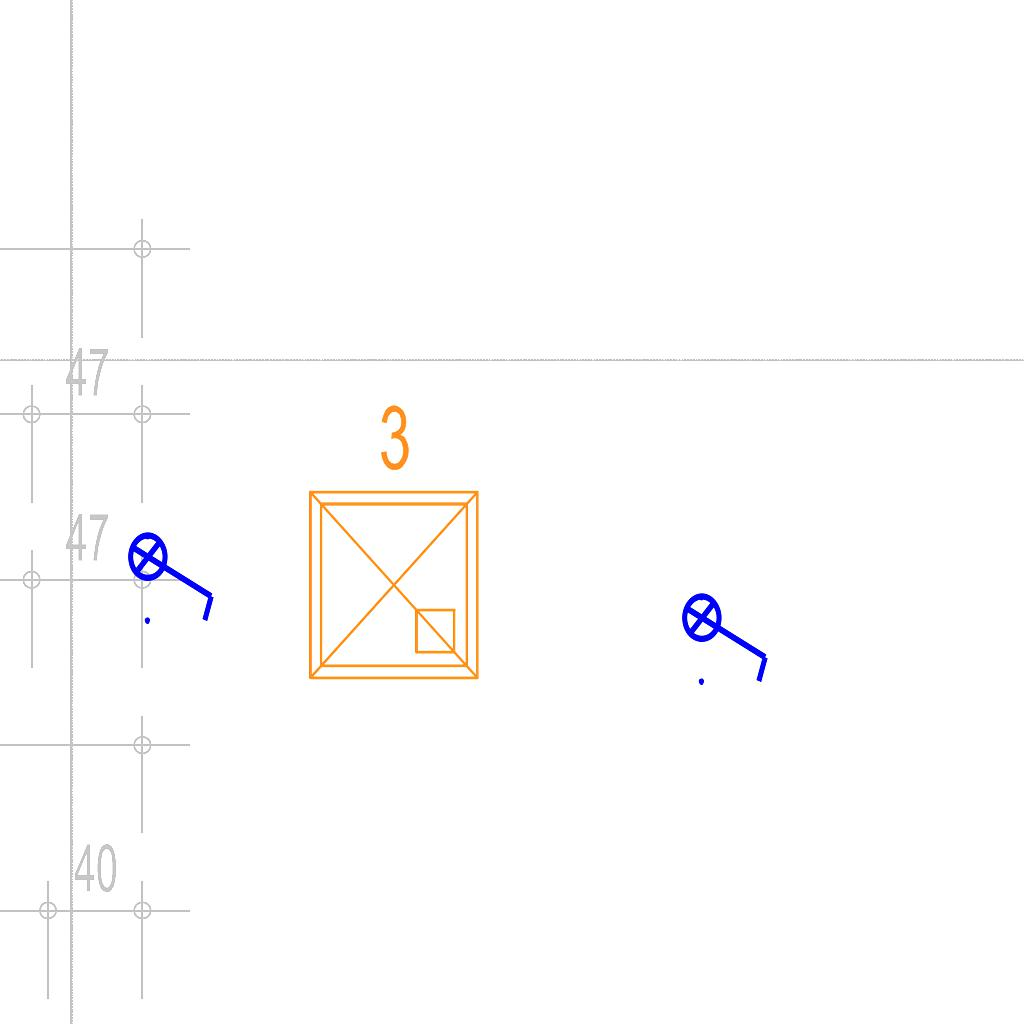Ausschalter_beleuchtet: (680, 579, 776, 691), (126, 518, 222, 630)
Einbaudownlights_LED_Konferenzraeume: (286, 394, 494, 694)
